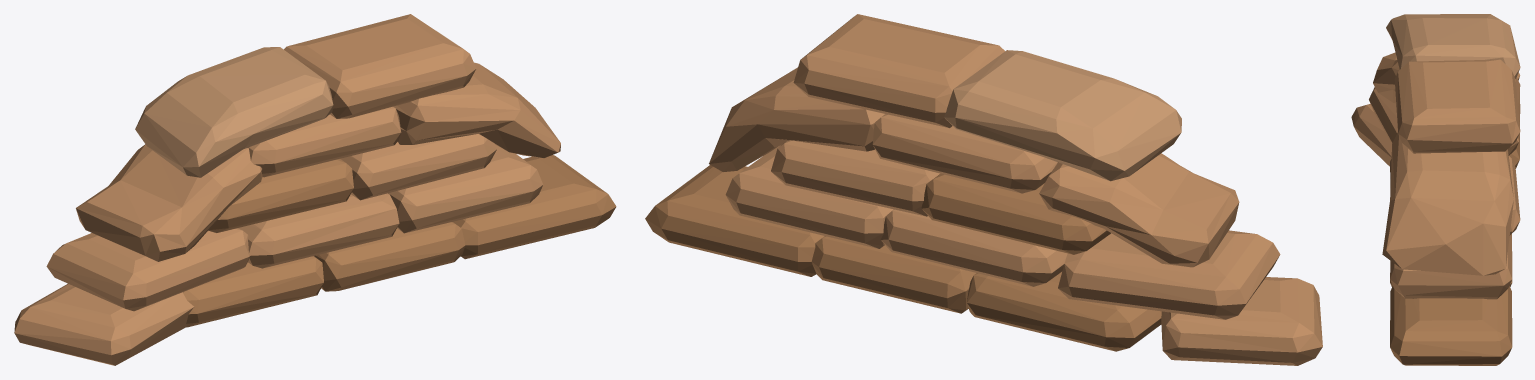
Rendered from Sand_02.fbx.
3 renders of one model, left to right at view 1: azimuth 30°, elevation 25°; view 2: azimuth 150°, elevation 25°; view 3: azimuth 270°, elevation 25°, orthographic. The views are drawn at different scales.
Visible parts, largest first — view 1: Sand_02; view 2: Sand_02; view 3: Sand_02.
Part boxes in pixels (x1=…): Sand_02: x1=14, y1=14, x2=616, y2=365; Sand_02: x1=645, y1=14, x2=1322, y2=365; Sand_02: x1=1351, y1=14, x2=1520, y2=365.
Size of the model in its own units: 257 by 91.03 by 69.95.
